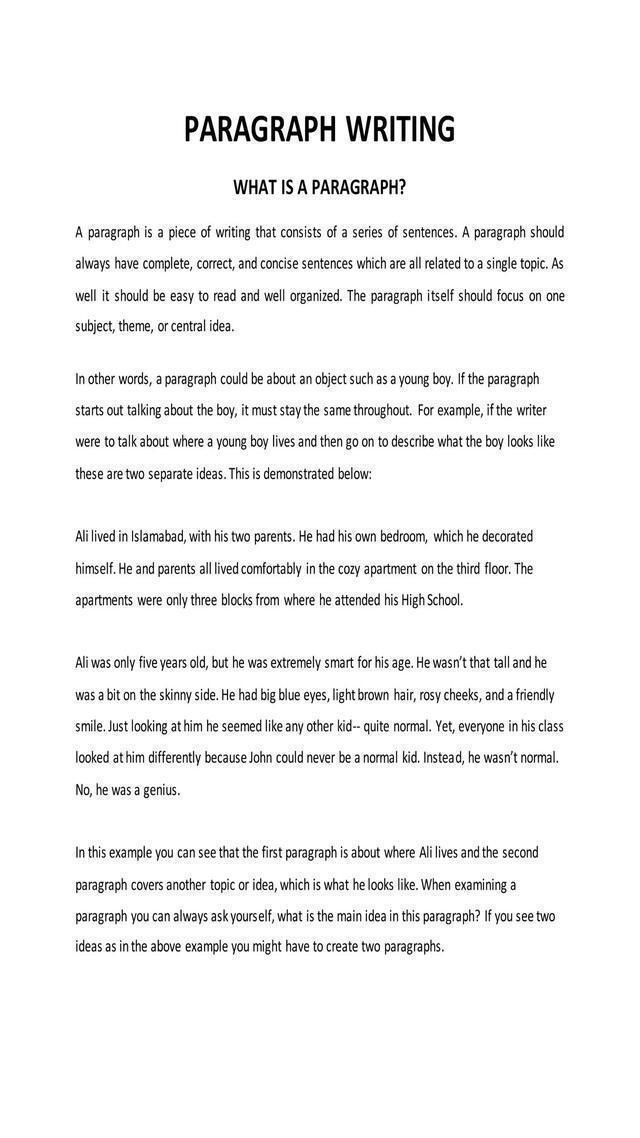Text: (68, 218, 571, 246), (72, 428, 560, 455), (72, 746, 570, 771), (71, 524, 541, 550), (69, 284, 572, 308), (70, 684, 562, 708), (69, 398, 548, 422), (70, 716, 568, 739), (70, 368, 546, 392), (174, 110, 464, 148), (72, 874, 524, 897), (70, 588, 467, 614), (73, 907, 560, 928), (71, 652, 551, 673), (68, 254, 571, 274), (71, 559, 544, 580), (70, 840, 542, 861), (72, 935, 447, 960), (70, 462, 378, 486), (228, 172, 409, 198), (70, 316, 241, 339), (70, 781, 185, 802)
